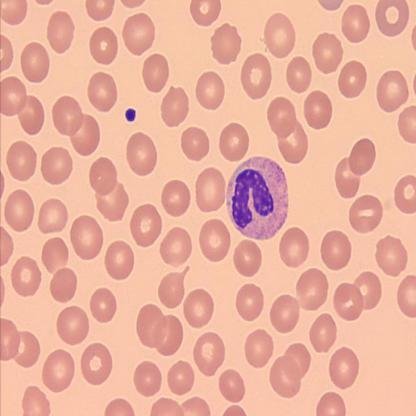Band Neutrophil: (223, 154, 291, 242)
